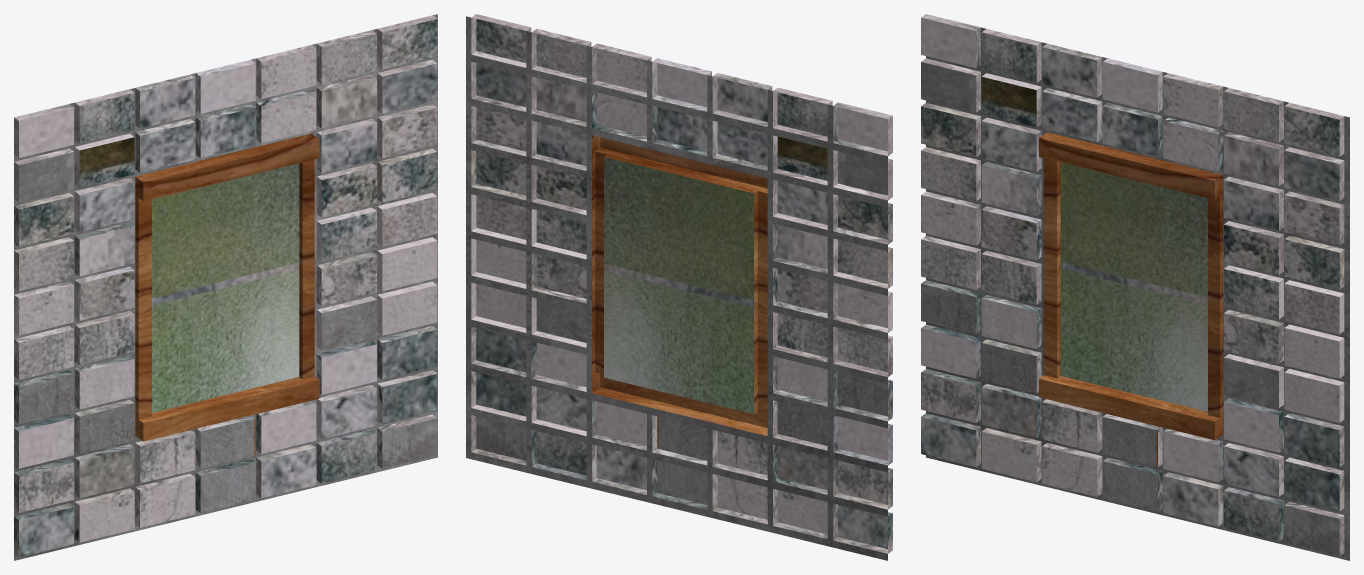
Rendered from Pared_015.fbx.
The picture shows the model from 3 angles, left to right: view 1: azimuth 30°, elevation 25°; view 2: azimuth 150°, elevation 25°; view 3: azimuth 330°, elevation 25°; orthographic projection.
Parts seen in each view (by area): view 1: Plane; view 2: Plane; view 3: Plane.
Boxes of the visible parts, x1,y1,x2,y2 form: Plane: (14, 14, 437, 560); Plane: (466, 14, 892, 560); Plane: (921, 14, 1349, 560).
Size of the model in its own units: 600 by 600 by 20.29.
